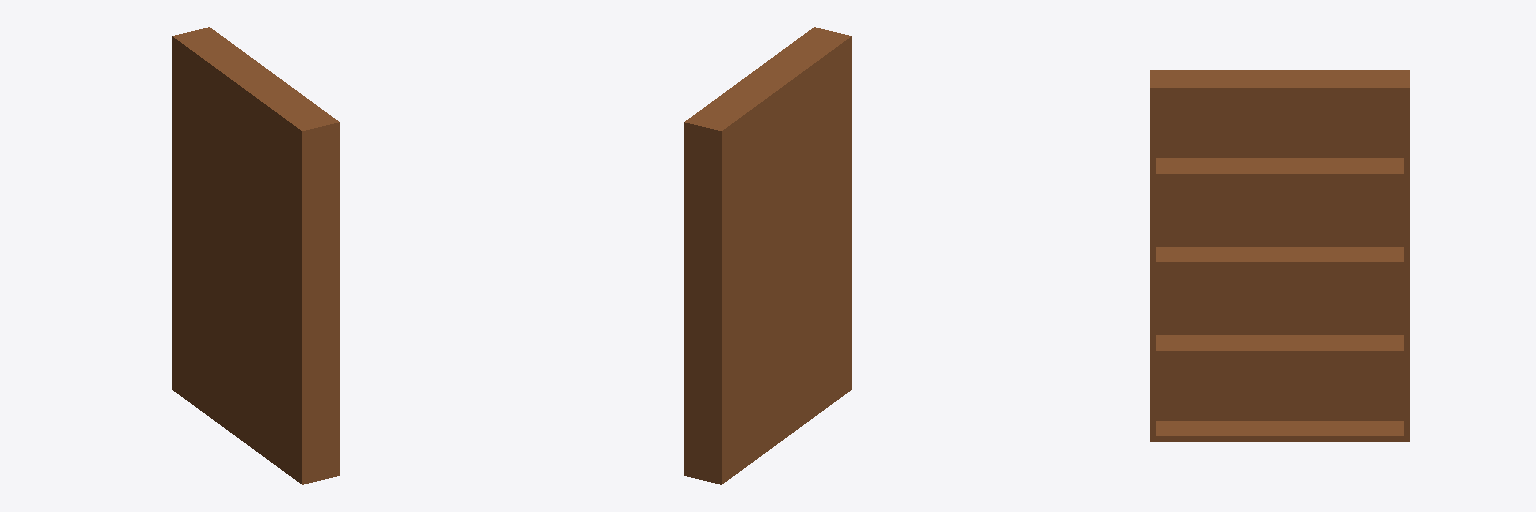
Rendered from bookshelf.obj.
The picture shows the model from 3 angles: view 1: azimuth 30°, elevation 25°; view 2: azimuth 150°, elevation 25°; view 3: azimuth 270°, elevation 25°; orthographic projection.
Visible parts, largest first — view 1: Cube; view 2: Cube; view 3: Cube.
Part boxes in pixels (x1,y1,x2,y2): Cube: (172, 27, 339, 484); Cube: (684, 27, 851, 484); Cube: (1150, 70, 1409, 441).
Size of the model in its own units: 0.2 by 1.8 by 1.2.